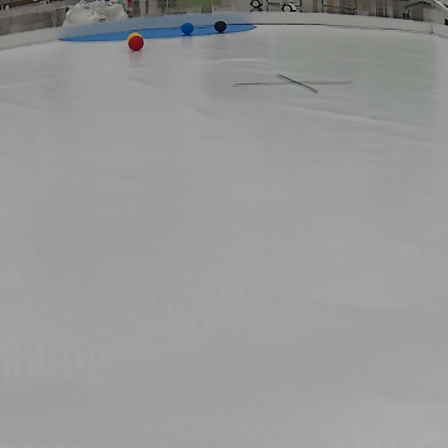black: (215, 22, 228, 31)
blue: (182, 24, 194, 33)
red: (129, 38, 147, 51)
red_base: (61, 22, 256, 43)
yellow: (129, 33, 140, 38)
